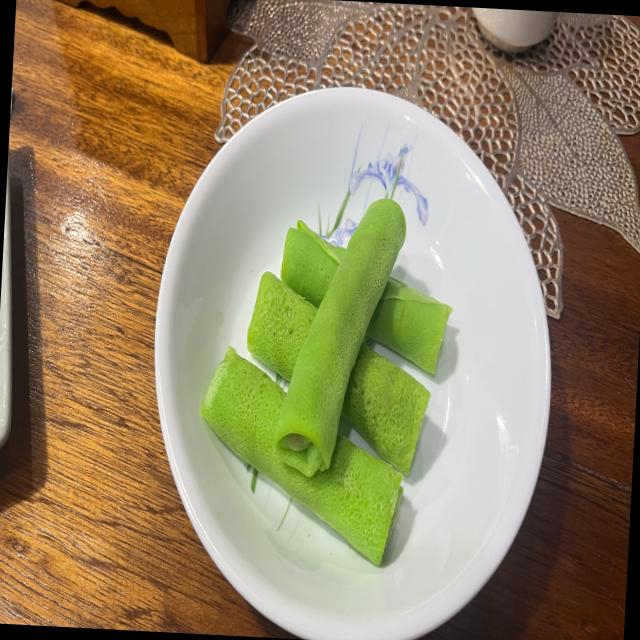Kuih-Ketayap: (201, 349, 402, 566), (274, 197, 406, 478), (341, 344, 430, 476), (366, 277, 452, 375), (247, 273, 317, 381), (281, 221, 345, 307)
